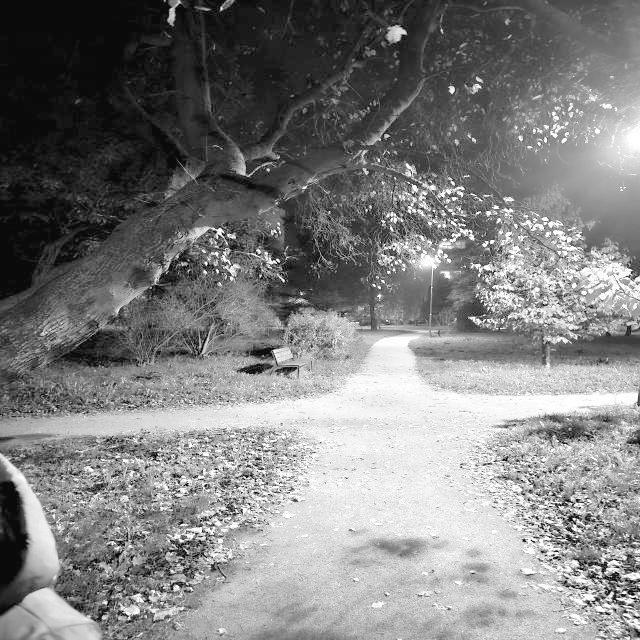Light: (422, 257, 439, 337)
Tree: (2, 42, 369, 384), (500, 212, 605, 368)
